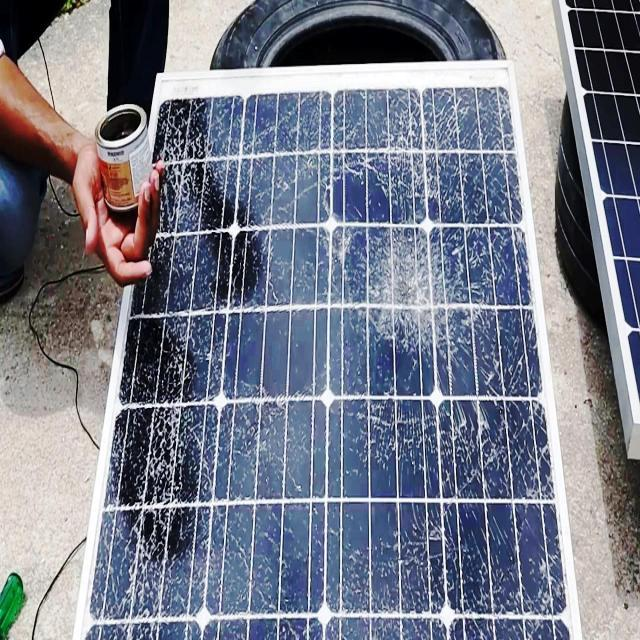faulty: (82, 73, 576, 634)
no faulty: (560, 3, 640, 418)
